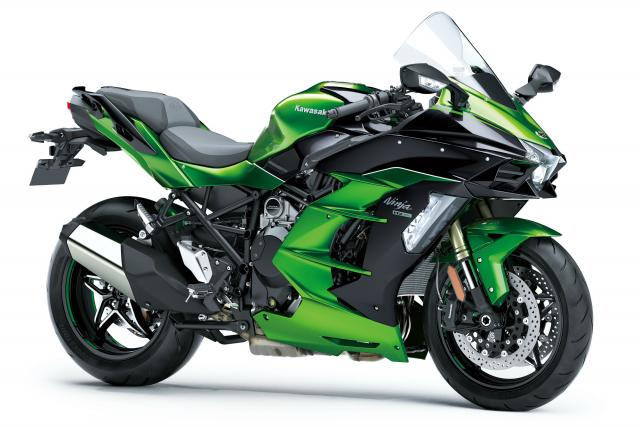motorcycle: (28, 12, 595, 411)
